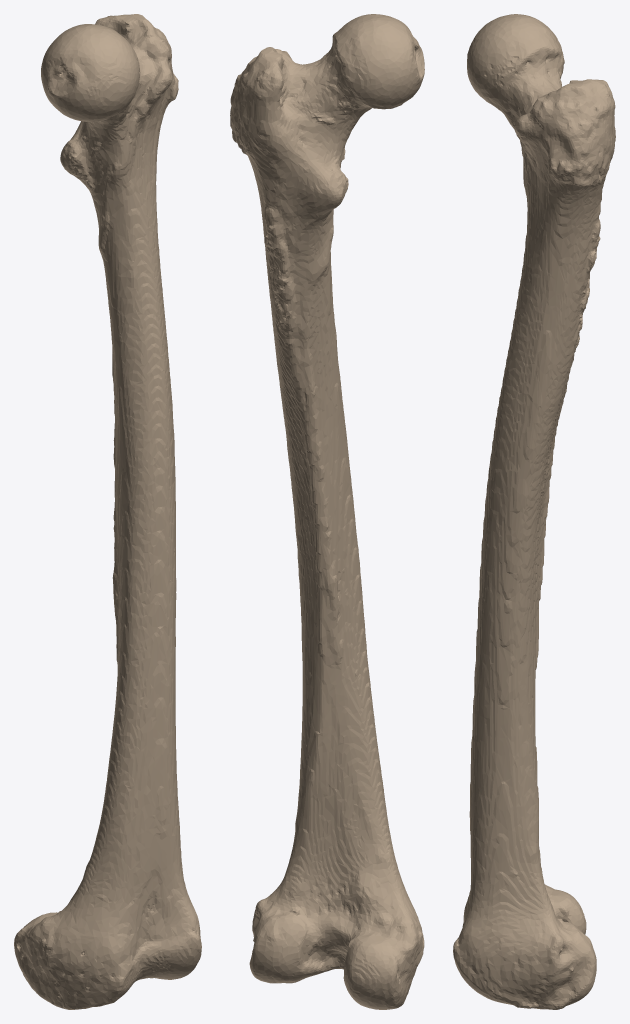
File: FemurBone001.fbx
3 renders of one model, left to right at view 1: azimuth 30°, elevation 25°; view 2: azimuth 150°, elevation 25°; view 3: azimuth 270°, elevation 25°, orthographic.
Parts seen in each view (by area): view 1: Human%20femur; view 2: Human%20femur; view 3: Human%20femur.
Part boxes in pixels (x1=…): Human%20femur: x1=14, y1=14, x2=201, y2=1009; Human%20femur: x1=230, y1=14, x2=424, y2=1009; Human%20femur: x1=453, y1=14, x2=615, y2=1009.
Bounding box in the file's own units: 79.54 × 450 × 69.15.
1 material, 1 textured.
